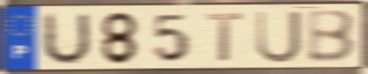5: (151, 12, 194, 64)
8: (99, 10, 141, 66)
B: (305, 9, 358, 65)
T: (205, 11, 246, 63)
U: (40, 11, 93, 68), (253, 9, 304, 65)
